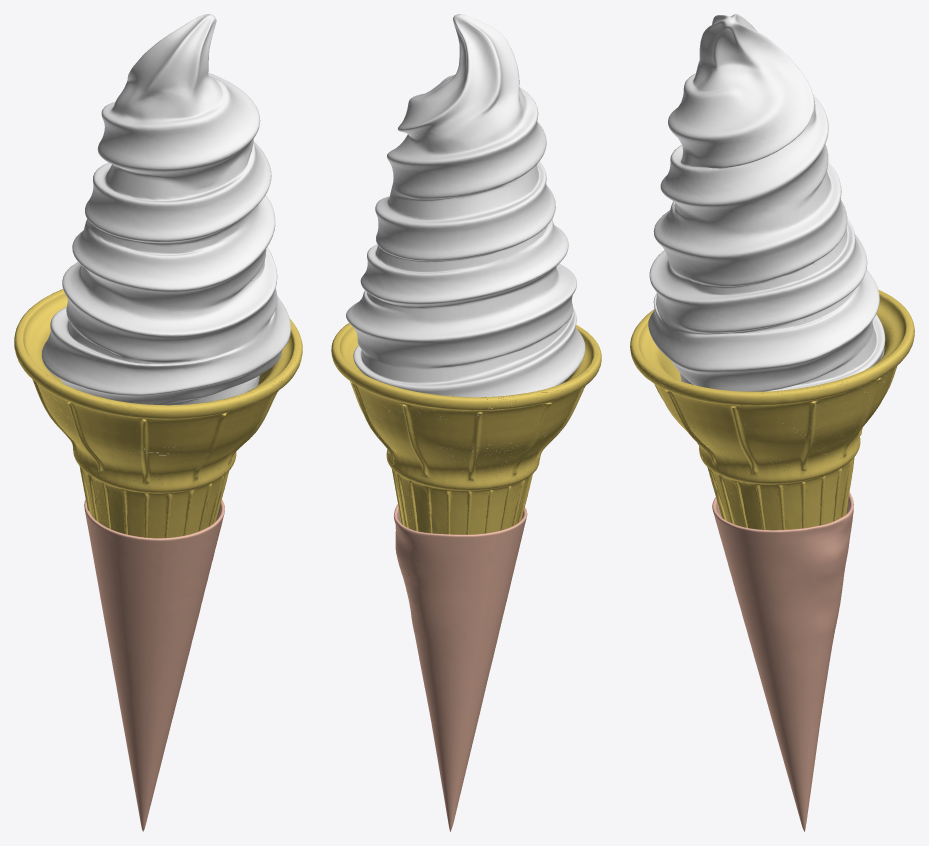
Rendered from icecream.gltf.
The picture shows the model from 3 angles, left to right: view 1: azimuth 30°, elevation 25°; view 2: azimuth 150°, elevation 25°; view 3: azimuth 270°, elevation 25°; orthographic projection. The views are drawn at different scales.
Parts seen in each view (by area): view 1: ice4_0, coon2_1, kami1_2; view 2: ice4_0, coon2_1, kami1_2; view 3: ice4_0, coon2_1, kami1_2.
Part boxes in pixels (x1,y1,x2,y2): ice4_0: (42, 14, 290, 456); coon2_1: (14, 289, 302, 538); kami1_2: (84, 499, 224, 831); ice4_0: (346, 14, 585, 469); coon2_1: (331, 323, 601, 534); kami1_2: (394, 504, 527, 831); ice4_0: (648, 14, 885, 440); coon2_1: (630, 290, 914, 530); kami1_2: (712, 492, 853, 831).
Size of the model in its own units: 0.0736 by 0.2357 by 0.0735.
Materials: 3 (3 with a texture image).
